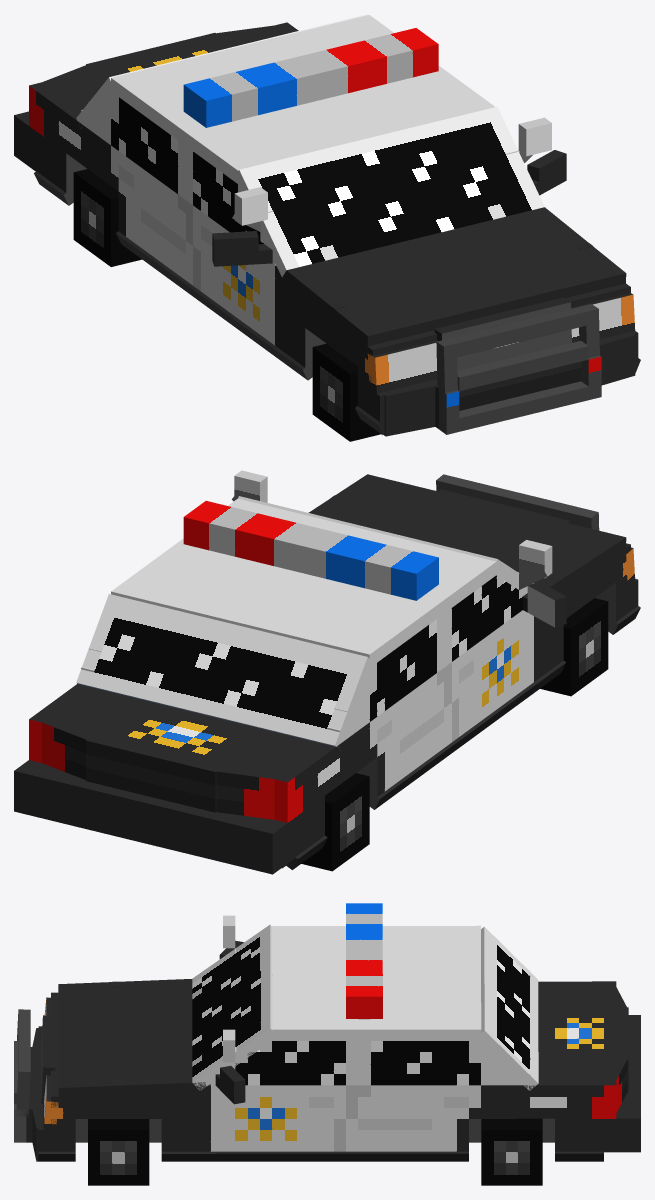
File: 2006_police_ford_crown_victoria.glb
3 views of the same model, one above another, from view 1: azimuth 30°, elevation 25°; view 2: azimuth 150°, elevation 25°; view 3: azimuth 270°, elevation 25° (orthographic). The views are drawn at different scales.
Parts seen in each view (by area): view 1: Object_2; view 2: Object_2; view 3: Object_2.
Boxes of the visible parts, <box> form: Object_2: <box>14,14,640,441</box>; Object_2: <box>14,470,640,874</box>; Object_2: <box>14,903,640,1185</box>.
Size of the model in its own units: 3.17 by 1.92 by 5.93.
1 material, 1 textured.
